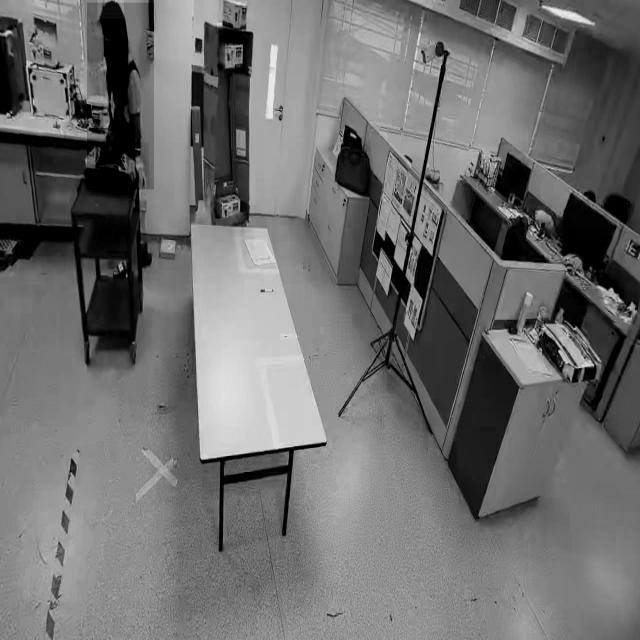face_mask: (104, 22, 114, 58)
hand_glove: (130, 142, 150, 186)
head_nohelmet: (97, 0, 124, 20)
person: (87, 3, 155, 190)
